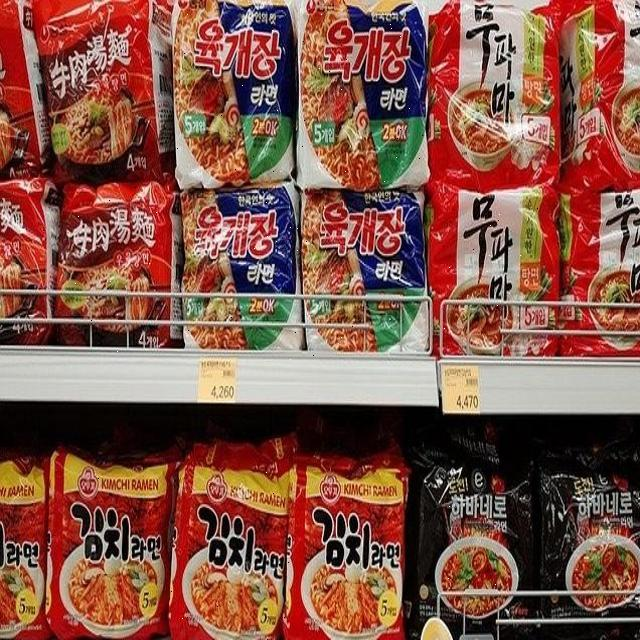product: (427, 1, 560, 191), (297, 2, 429, 188), (42, 185, 183, 353), (428, 186, 565, 351), (47, 455, 171, 635), (301, 189, 431, 358), (177, 1, 300, 179), (170, 467, 291, 640), (180, 197, 302, 364), (295, 474, 419, 632), (424, 467, 536, 635)
